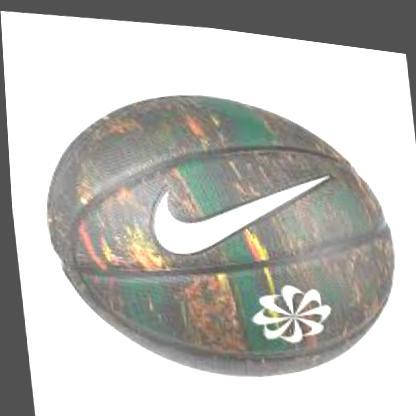basketball: (31, 60, 407, 398)
